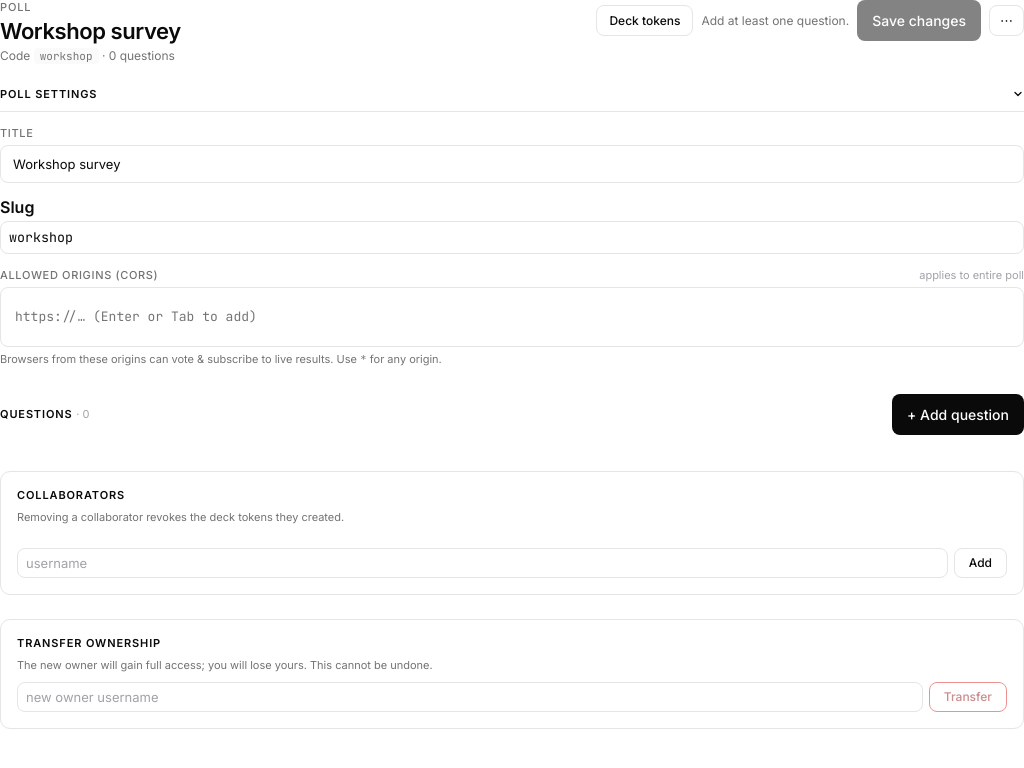
PollEditorPage — edit mode › Delete poll opens ConfirmDialog (no native confirm) and disables until slug is typed
The image size is (1024, 768).
Click the button with test id "menu-trigger" at [1006, 20], box [989,5,1023,36]
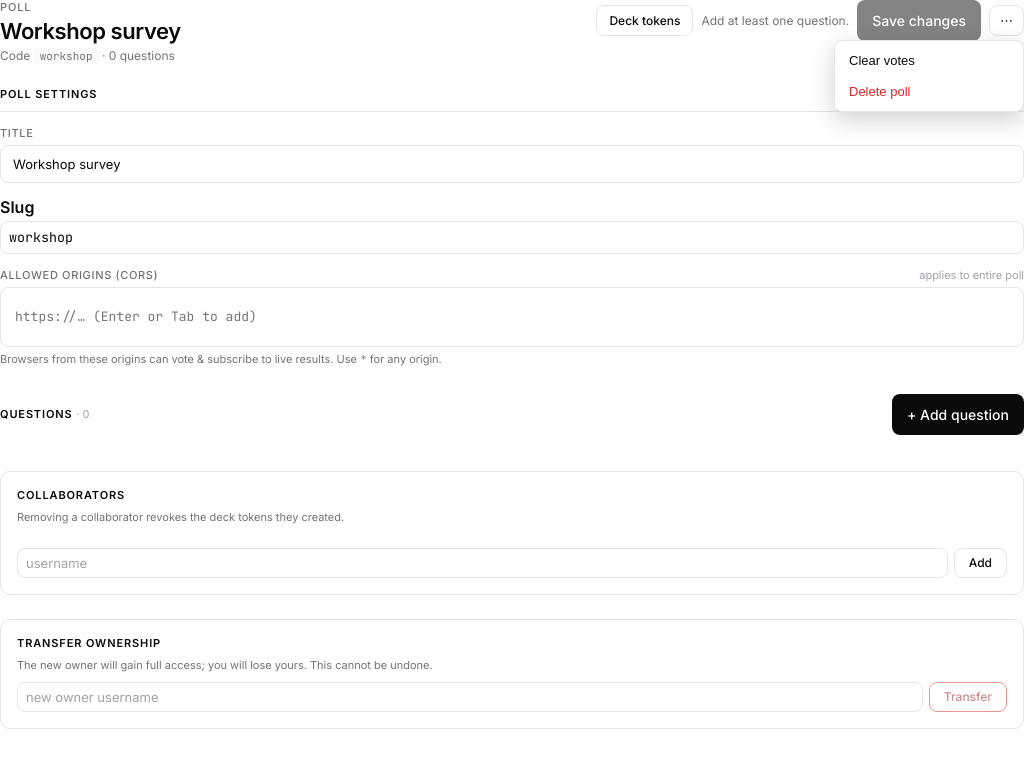
Click the menu item with test id "menu-item-delete" at [929, 92], box [839,76,1019,107]
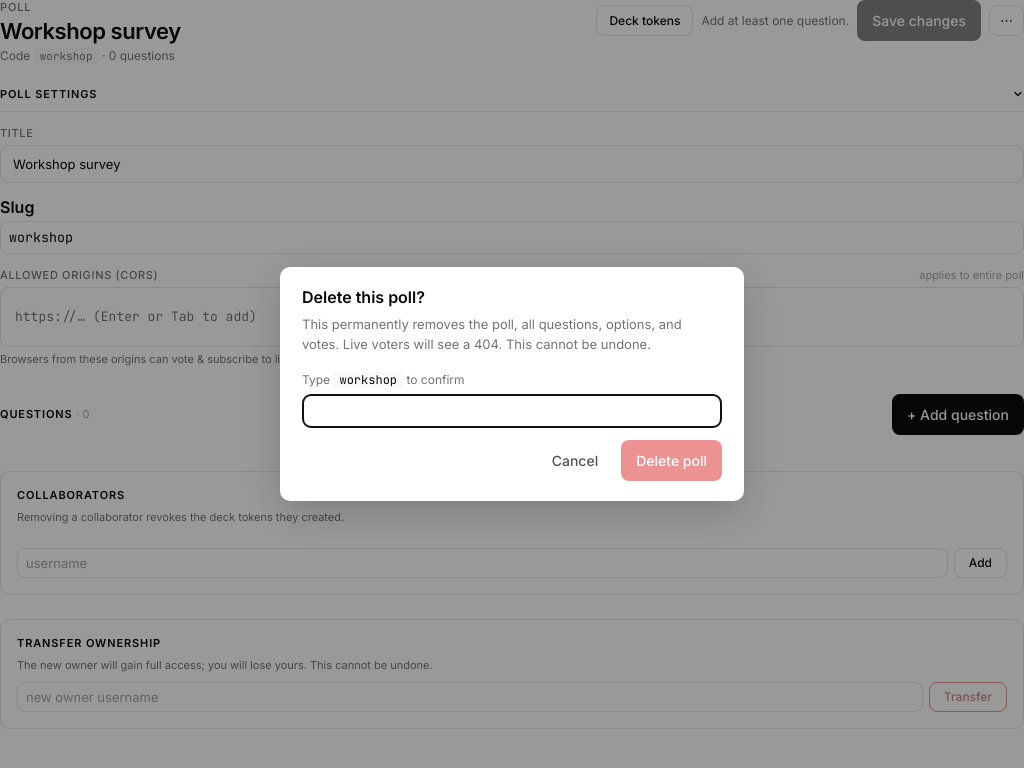
Expected: the button with test id "confirm-dialog-confirm" is disabled, [621,440,722,481]
Expected: the number of fields with test id "confirm-dialog-typed" is 1
Expected: the dialog with test id "confirm-dialog-typed" is shown, [280,267,744,501]
Type "workshop" into the field with test id "confirm-dialog-typed" at [512, 411], box [302,394,722,428]
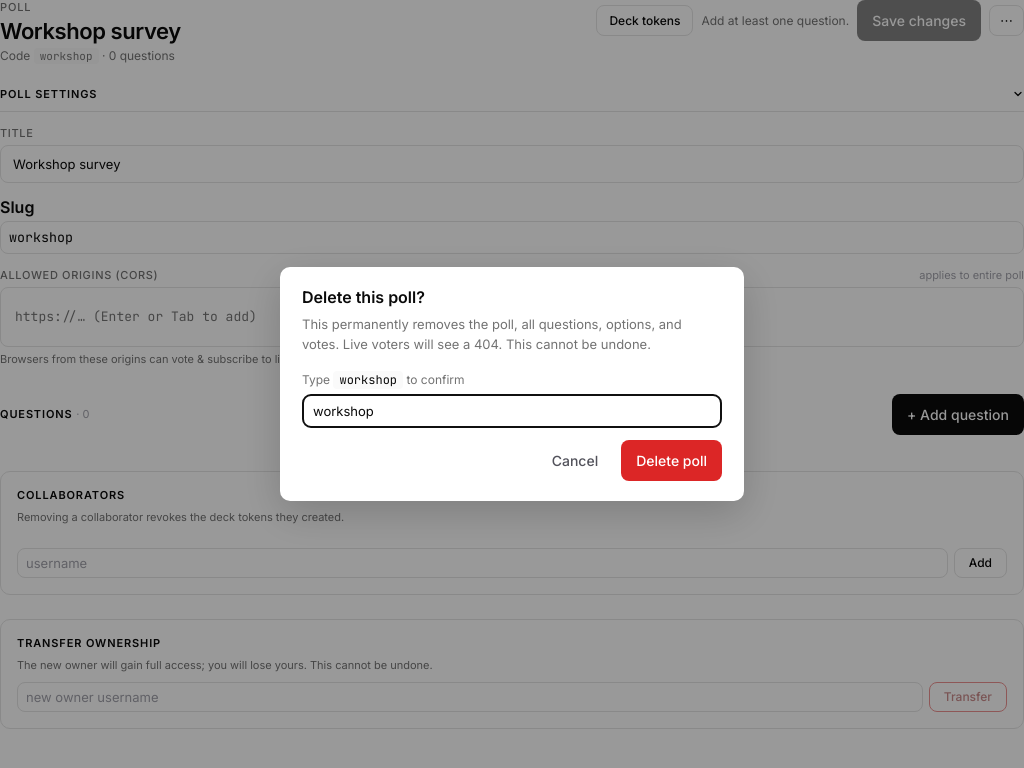
Expected: the button with test id "confirm-dialog-confirm" is enabled, [621,440,722,481]
